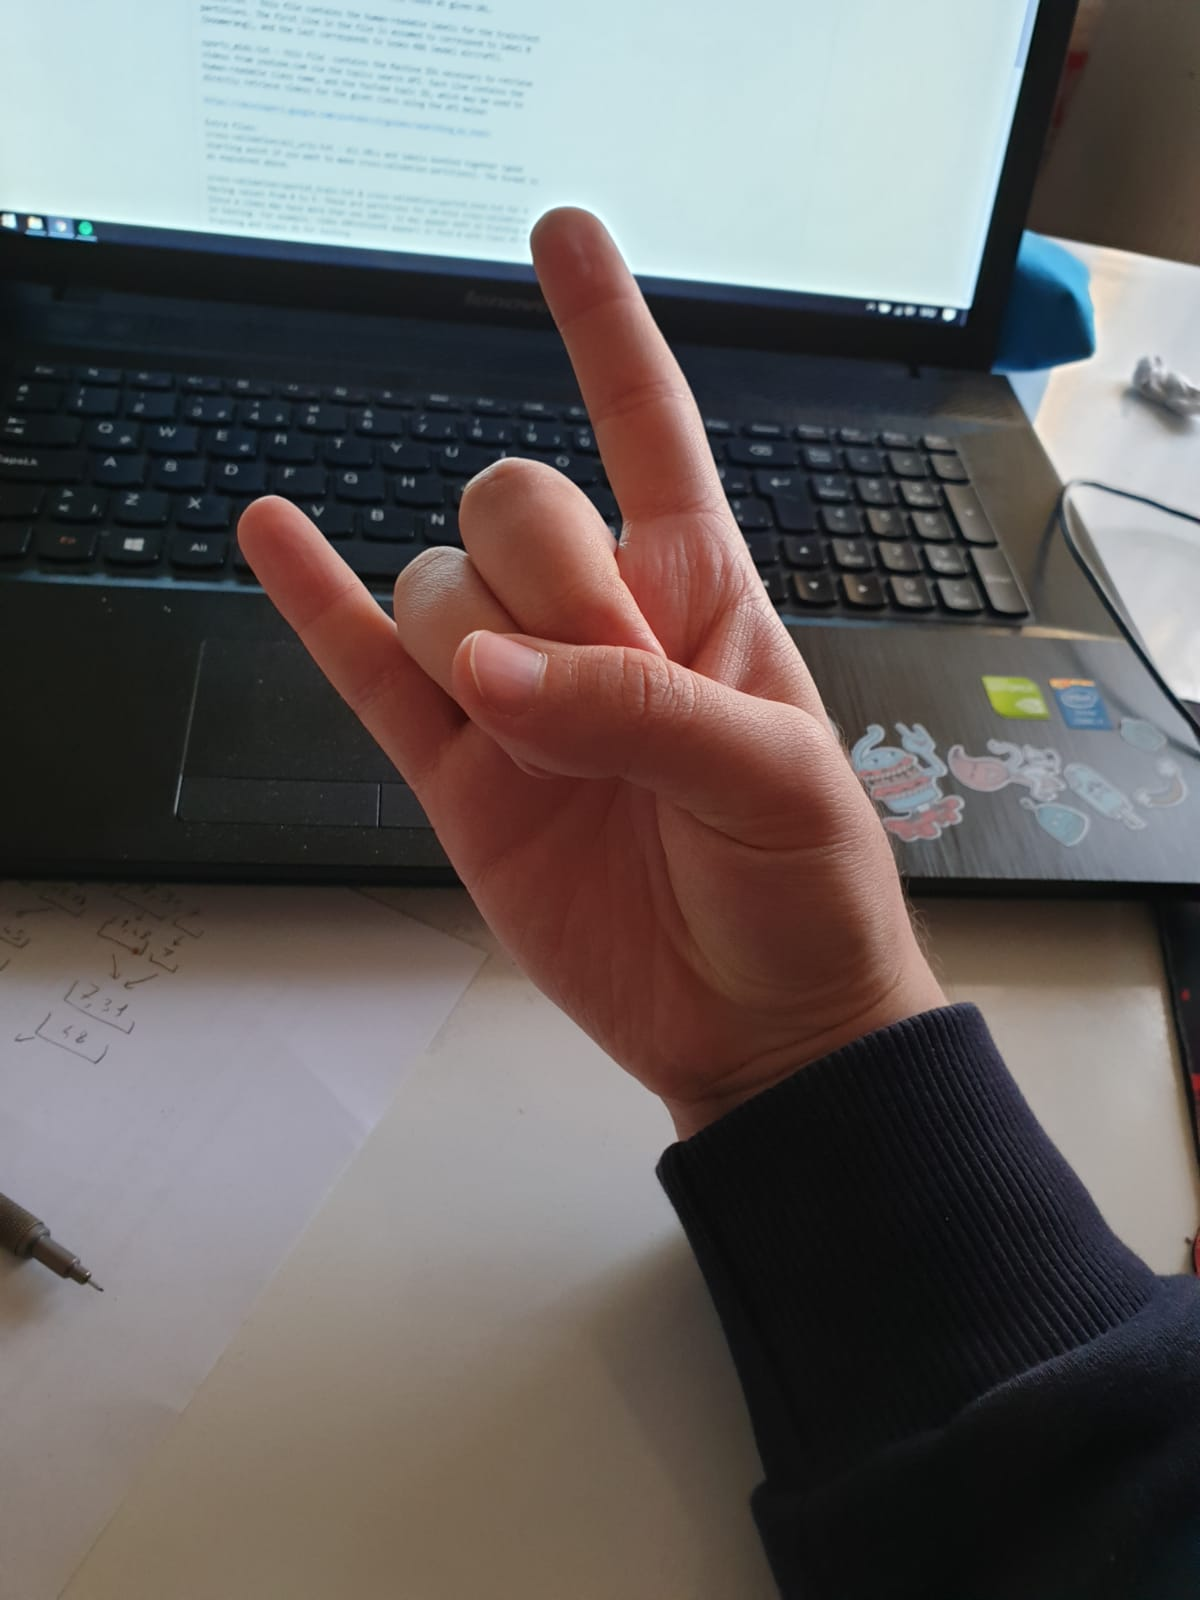Love: (237, 202, 955, 1143)
